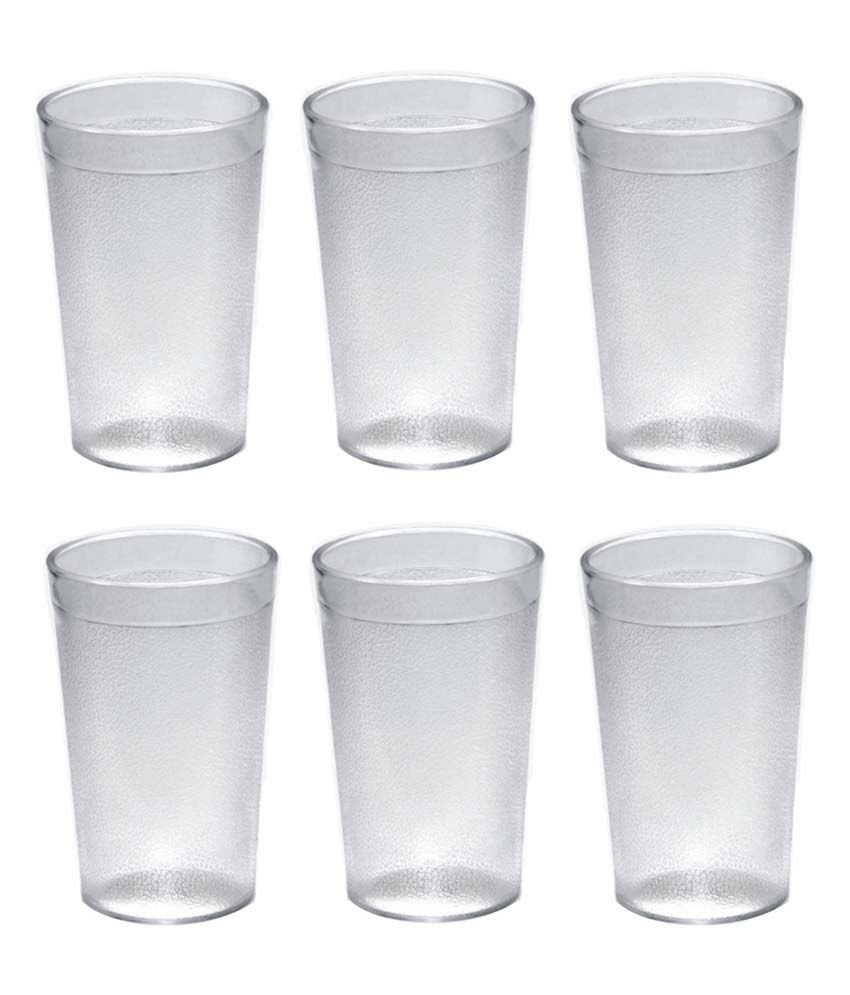plastic_glass: (289, 51, 548, 486), (20, 54, 282, 480), (560, 61, 821, 485), (301, 516, 563, 933), (566, 515, 822, 940), (33, 519, 285, 930)
